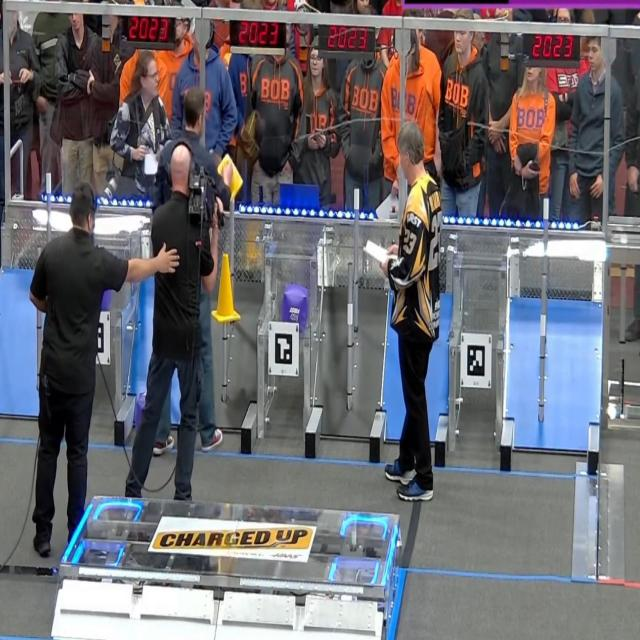frc_cone: (210, 250, 243, 324), (216, 151, 243, 199)
frc_cube: (283, 284, 307, 325), (135, 392, 146, 431), (99, 285, 110, 314)
